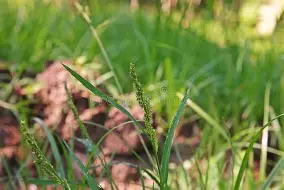weed: (0, 0, 283, 188)
